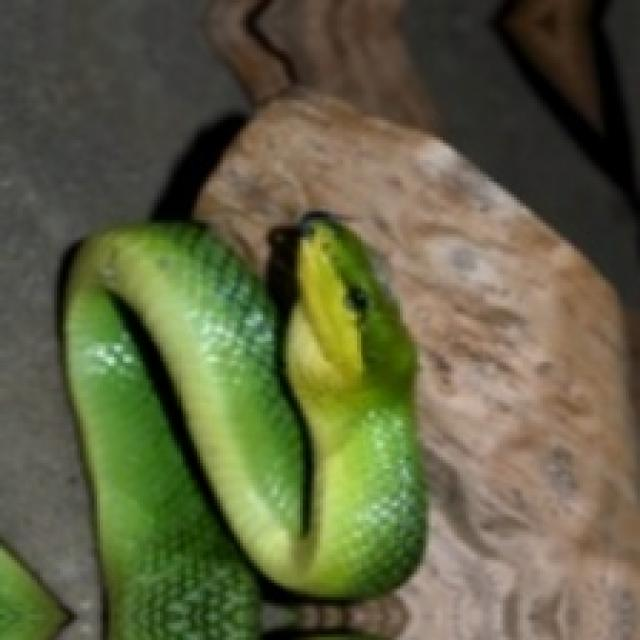red-tailed green ratsnake: (63, 217, 423, 637)
